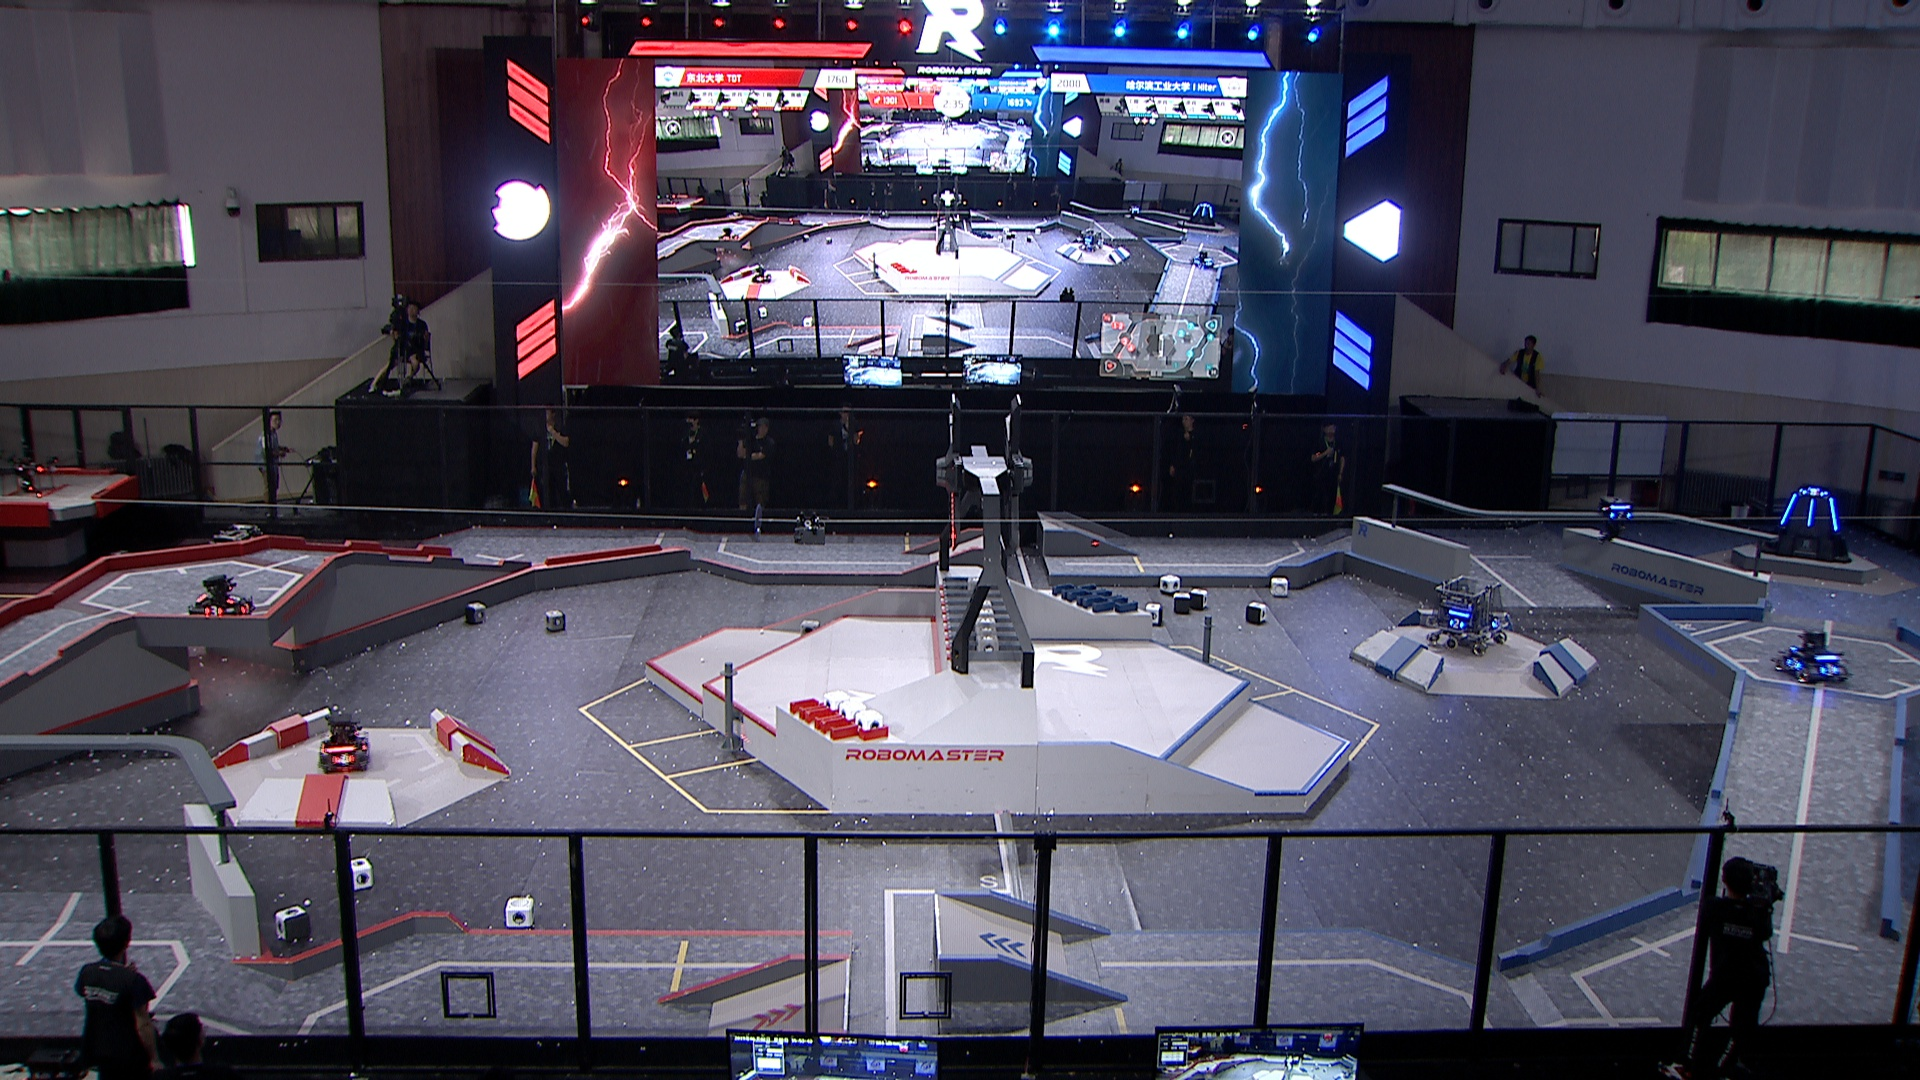armor: (1776, 491, 1801, 527), (1826, 493, 1840, 534), (330, 752, 356, 767), (1804, 498, 1817, 529), (1820, 661, 1841, 678), (1607, 509, 1633, 522), (223, 591, 244, 605), (204, 603, 225, 617), (237, 600, 255, 617), (1785, 655, 1803, 673), (1448, 616, 1466, 632), (1803, 487, 1826, 498), (1486, 616, 1503, 629)
base: (1755, 479, 1855, 567)
car: (1424, 571, 1514, 655), (199, 520, 277, 604), (1774, 626, 1858, 687), (185, 570, 256, 624), (316, 709, 375, 775)
ignore: (1073, 225, 1102, 255), (1187, 200, 1216, 228), (1187, 247, 1215, 272), (752, 264, 774, 286), (716, 224, 741, 243), (1125, 202, 1143, 218)
watcher: (1594, 496, 1636, 546)
